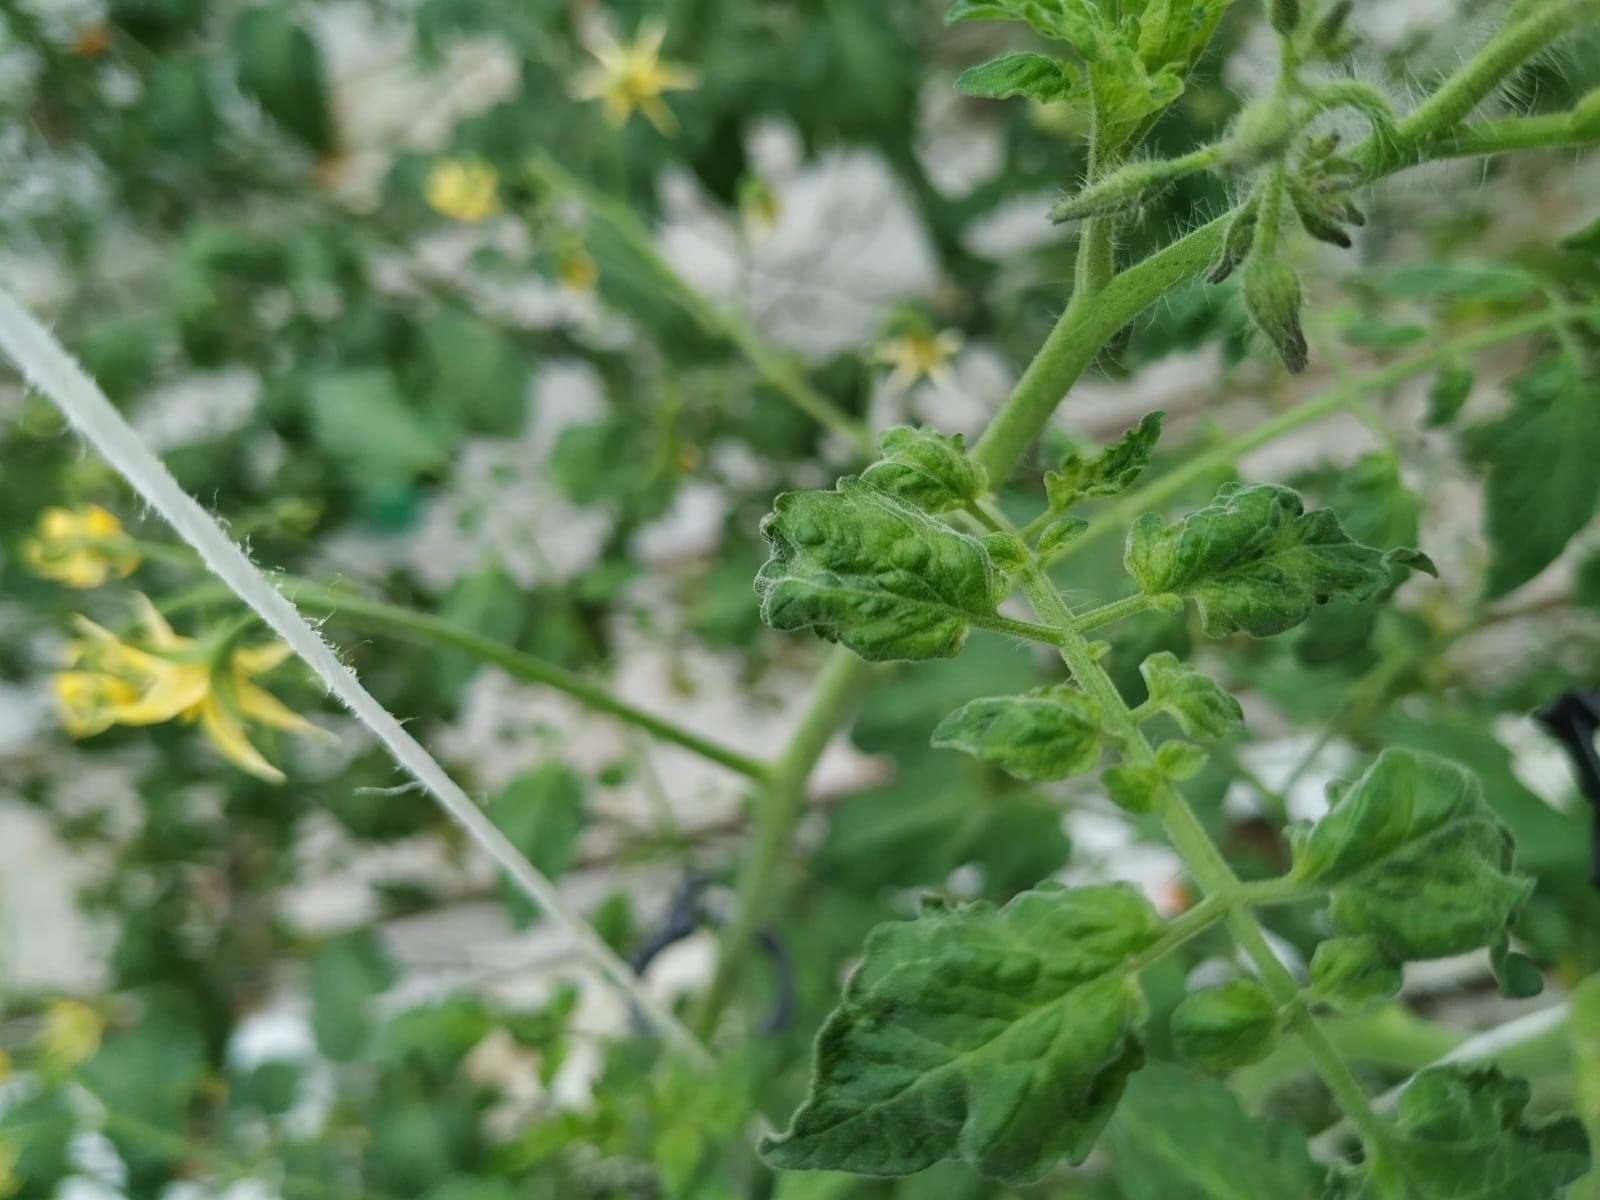Rugose stem: (975, 216, 1231, 488)
